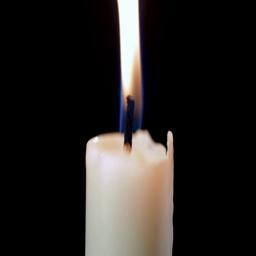fire: (116, 0, 143, 133)
